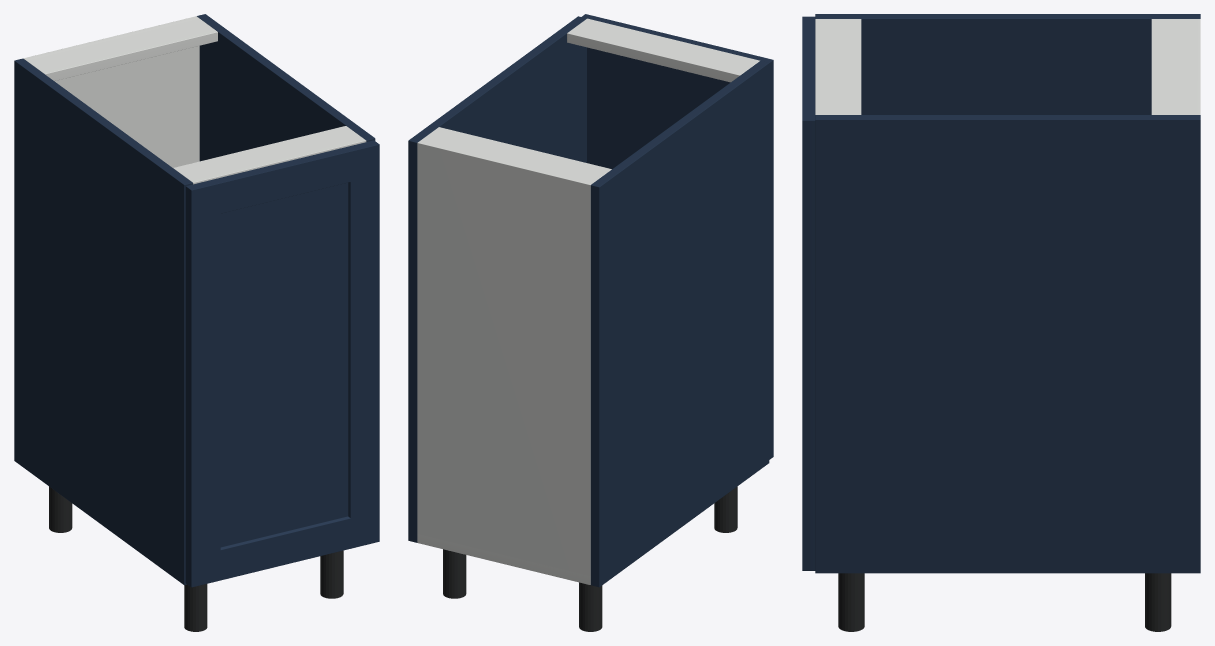
The model's file is oppein-pb-bss-b15fh.glb.
3 views of the same model, side by side, from view 1: azimuth 30°, elevation 25°; view 2: azimuth 150°, elevation 25°; view 3: azimuth 270°, elevation 25° (orthographic). The views are drawn at different scales.
Parts seen in each view (by area): view 1: Door, Cabinet side, Cabinet side.001, Cabinet back, Top support rail, Top support rail.001, Adjustable foot.001, Adjustable foot.003, Adjustable foot; view 2: Cabinet side, Cabinet back, Cabinet side.001, Door, Top support rail.001, Top support rail, Cabinet bottom, Adjustable foot, Adjustable foot.002, Adjustable foot.001; view 3: Cabinet side.001, Cabinet side, Door, Top support rail.001, Top support rail, Adjustable foot.002, Adjustable foot.003, Cabinet back.
Boxes of the visible parts, x1,y1,x2,y2 form: Door: (185, 140, 379, 587); Cabinet side: (14, 58, 192, 585); Cabinet side.001: (197, 14, 375, 161); Cabinet back: (23, 16, 199, 167); Top support rail: (26, 18, 217, 80); Top support rail.001: (173, 126, 366, 184); Adjustable foot.001: (184, 584, 207, 631); Adjustable foot.003: (320, 550, 343, 598); Adjustable foot: (49, 486, 72, 532); Cabinet side: (590, 61, 769, 587); Cabinet back: (417, 140, 593, 584); Cabinet side.001: (408, 16, 586, 542); Door: (582, 14, 773, 459); Top support rail.001: (567, 18, 759, 82); Top support rail: (421, 127, 611, 183); Cabinet bottom: (417, 534, 590, 584); Adjustable foot: (579, 582, 602, 631); Adjustable foot.002: (443, 549, 466, 598); Adjustable foot.001: (714, 486, 737, 532); Cabinet side.001: (815, 115, 1200, 573); Cabinet side: (815, 14, 1200, 114); Door: (802, 16, 815, 570); Top support rail.001: (815, 19, 861, 114); Top support rail: (1151, 19, 1193, 114); Adjustable foot.002: (1145, 573, 1171, 631); Adjustable foot.003: (838, 573, 864, 631); Cabinet back: (1193, 19, 1200, 114).
Size of the model in its own units: 0.381 by 0.8763 by 0.6064.
